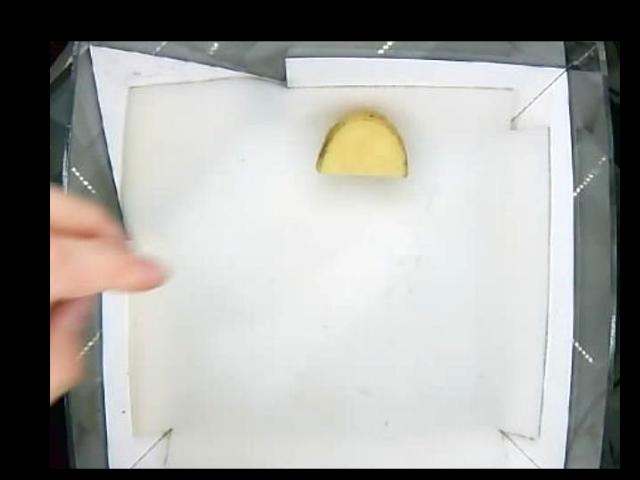Potato: (315, 112, 408, 177)
